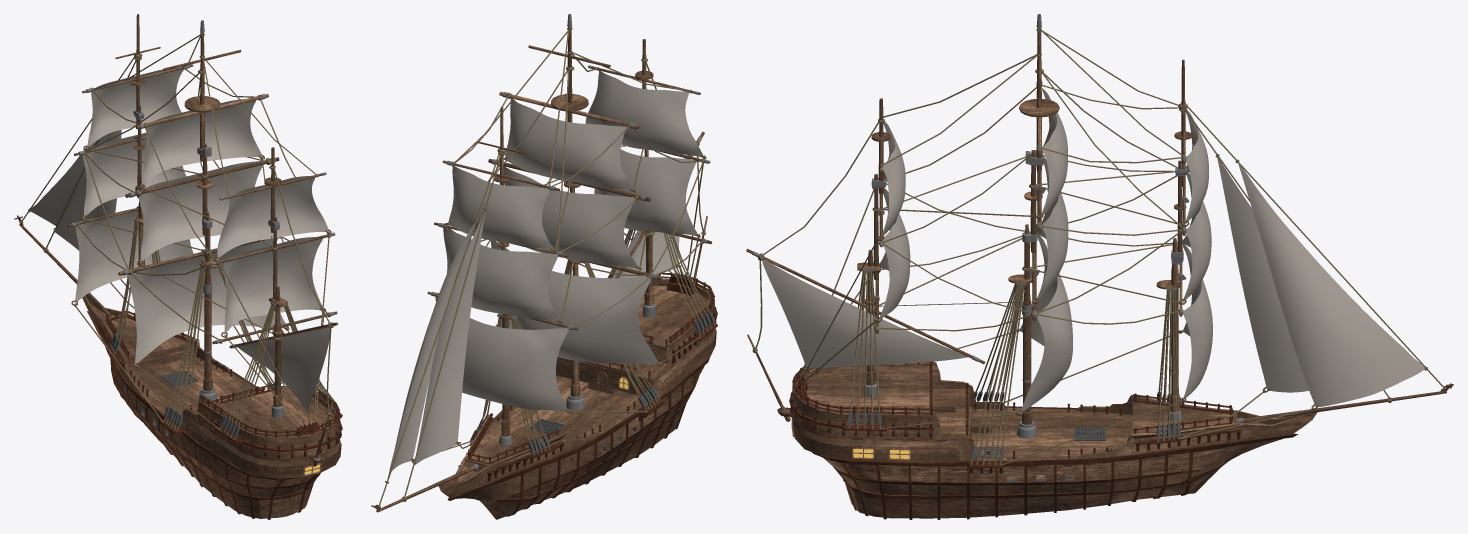
Rendered from PirateShip_Draco.glb.
3 views of the same model, side by side, from view 1: azimuth 30°, elevation 25°; view 2: azimuth 150°, elevation 25°; view 3: azimuth 270°, elevation 25° (orthographic). The views are drawn at different scales.
Parts seen in each view (by area): view 1: MainShip_MainShip_0, MainSail1_Sails_0, Ropes_Ropes_0, MizzenSail1_Sails_0, MainSail2_Sails_0, MainSail3_Sails_0, MizzenSail2_Sails_0, ForeSail1_Sails_0, ForeSail3_Sails_0, ForeSail2_Sails_0, BackJib_Sails_0, MainMast_Poles_0 (+15 smaller); view 2: MainShip_MainShip_0, MainSail1_Sails_0, ForeSail1_Sails_0, MainSail3_Sails_0, Jib_Sails_0, MainSail2_Sails_0, ForeSail2_Sails_0, Ropes_Ropes_0, MizzenSail2_Sails_0, ForeSail3_Sails_0, MizzenSail1_Sails_0, FlyingJib_Sails_0 (+15 smaller); view 3: MainShip_MainShip_0, FlyingJib_Sails_0, Ropes_Ropes_0, BackJib_Sails_0, Jib_Sails_0, MainMast_Poles_0, MainSail1_Sails_0, MainShrouds_Ropes_0, Cylinder.004_Details_0, ForeMast_Poles_0, KeelDetail_Details_0, ForeSail1_Sails_0 (+12 smaller).
Part boxes in pixels (bbox=[...]): MainShip_MainShip_0: bbox=[82, 294, 342, 518]; MainSail1_Sails_0: bbox=[127, 237, 287, 365]; Ropes_Ropes_0: bbox=[21, 34, 331, 429]; MizzenSail1_Sails_0: bbox=[223, 237, 322, 334]; MainSail2_Sails_0: bbox=[138, 161, 262, 262]; MainSail3_Sails_0: bbox=[141, 99, 262, 186]; MizzenSail2_Sails_0: bbox=[217, 176, 328, 259]; ForeSail1_Sails_0: bbox=[75, 208, 193, 302]; ForeSail3_Sails_0: bbox=[87, 68, 183, 148]; ForeSail2_Sails_0: bbox=[82, 133, 186, 217]; BackJib_Sails_0: bbox=[237, 327, 329, 411]; MainMast_Poles_0: bbox=[184, 20, 220, 402]; MainShip_MainShip_0: bbox=[438, 278, 717, 519]; MainSail1_Sails_0: bbox=[490, 240, 659, 364]; ForeSail1_Sails_0: bbox=[435, 295, 569, 411]; MainSail3_Sails_0: bbox=[504, 98, 632, 191]; Jib_Sails_0: bbox=[414, 213, 485, 465]; MainSail2_Sails_0: bbox=[503, 166, 637, 268]; ForeSail2_Sails_0: bbox=[443, 226, 559, 321]; Ropes_Ropes_0: bbox=[379, 30, 703, 505]; MizzenSail2_Sails_0: bbox=[585, 70, 703, 156]; ForeSail3_Sails_0: bbox=[448, 165, 553, 249]; MizzenSail1_Sails_0: bbox=[594, 149, 697, 235]; FlyingJib_Sails_0: bbox=[387, 223, 474, 479]; MainShip_MainShip_0: bbox=[789, 362, 1317, 518]; FlyingJib_Sails_0: bbox=[1238, 162, 1425, 406]; Ropes_Ropes_0: bbox=[755, 30, 1443, 465]; BackJib_Sails_0: bbox=[762, 259, 968, 368]; Jib_Sails_0: bbox=[1217, 157, 1308, 392]; MainMast_Poles_0: bbox=[1008, 14, 1059, 438]; MainSail1_Sails_0: bbox=[1019, 234, 1072, 414]; MainShrouds_Ropes_0: bbox=[970, 283, 1024, 464]; Cylinder.004_Details_0: bbox=[792, 361, 1233, 458]; ForeMast_Poles_0: bbox=[1156, 59, 1192, 421]; KeelDetail_Details_0: bbox=[823, 452, 1193, 519]; ForeSail1_Sails_0: bbox=[1182, 244, 1212, 400].
Size of the model in its own units: 159 by 390 by 511.
Materials: 18 (18 with a texture image).
